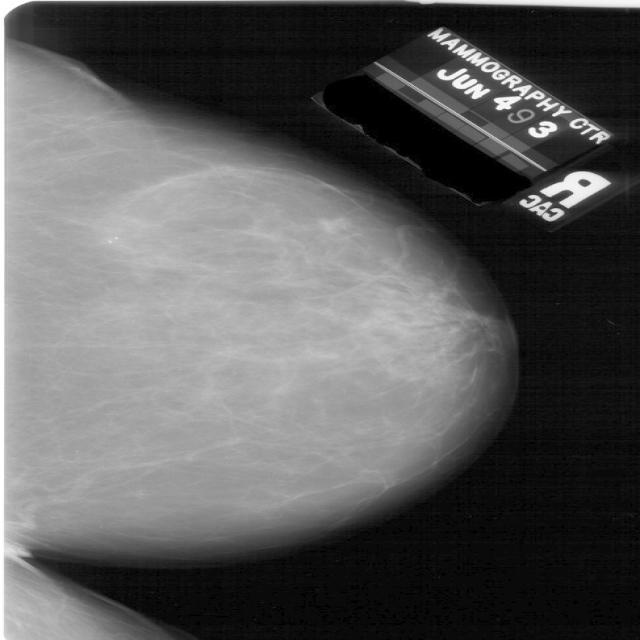tumour: (320, 215, 358, 232)
